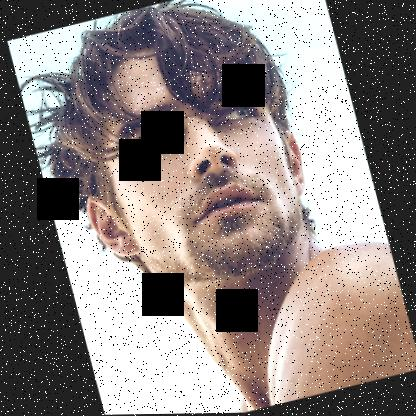Male: (49, 16, 327, 303)
